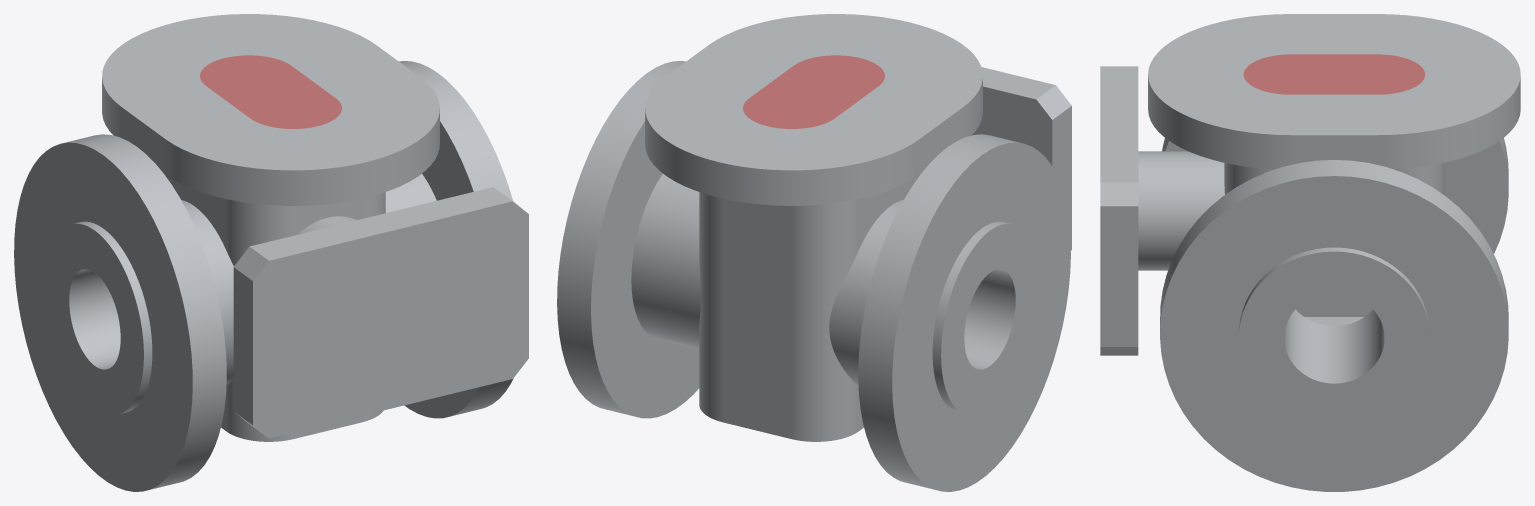
File: step_12.glb
3 renders of one model, left to right at view 1: azimuth 30°, elevation 25°; view 2: azimuth 150°, elevation 25°; view 3: azimuth 270°, elevation 25°, orthographic. The views are drawn at different scales.
Parts seen in each view (by area): view 1: part__valve body, removed__valve body; view 2: part__valve body, removed__valve body; view 3: part__valve body, removed__valve body.
Boxes of the visible parts, box(x1,y1,x2,y2) form: part__valve body: box(14, 14, 528, 491); removed__valve body: box(200, 55, 341, 128); part__valve body: box(557, 14, 1071, 491); removed__valve body: box(743, 55, 884, 128); part__valve body: box(1100, 14, 1520, 491); removed__valve body: box(1243, 54, 1424, 94).
Bounding box in the file's own units: 166 × 156 × 176.
